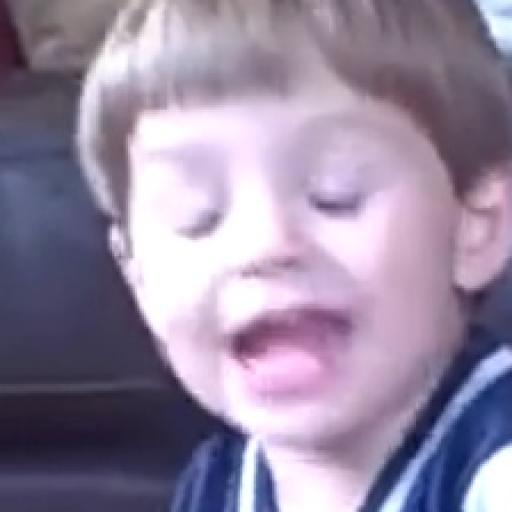Autism: (45, 17, 512, 456)
